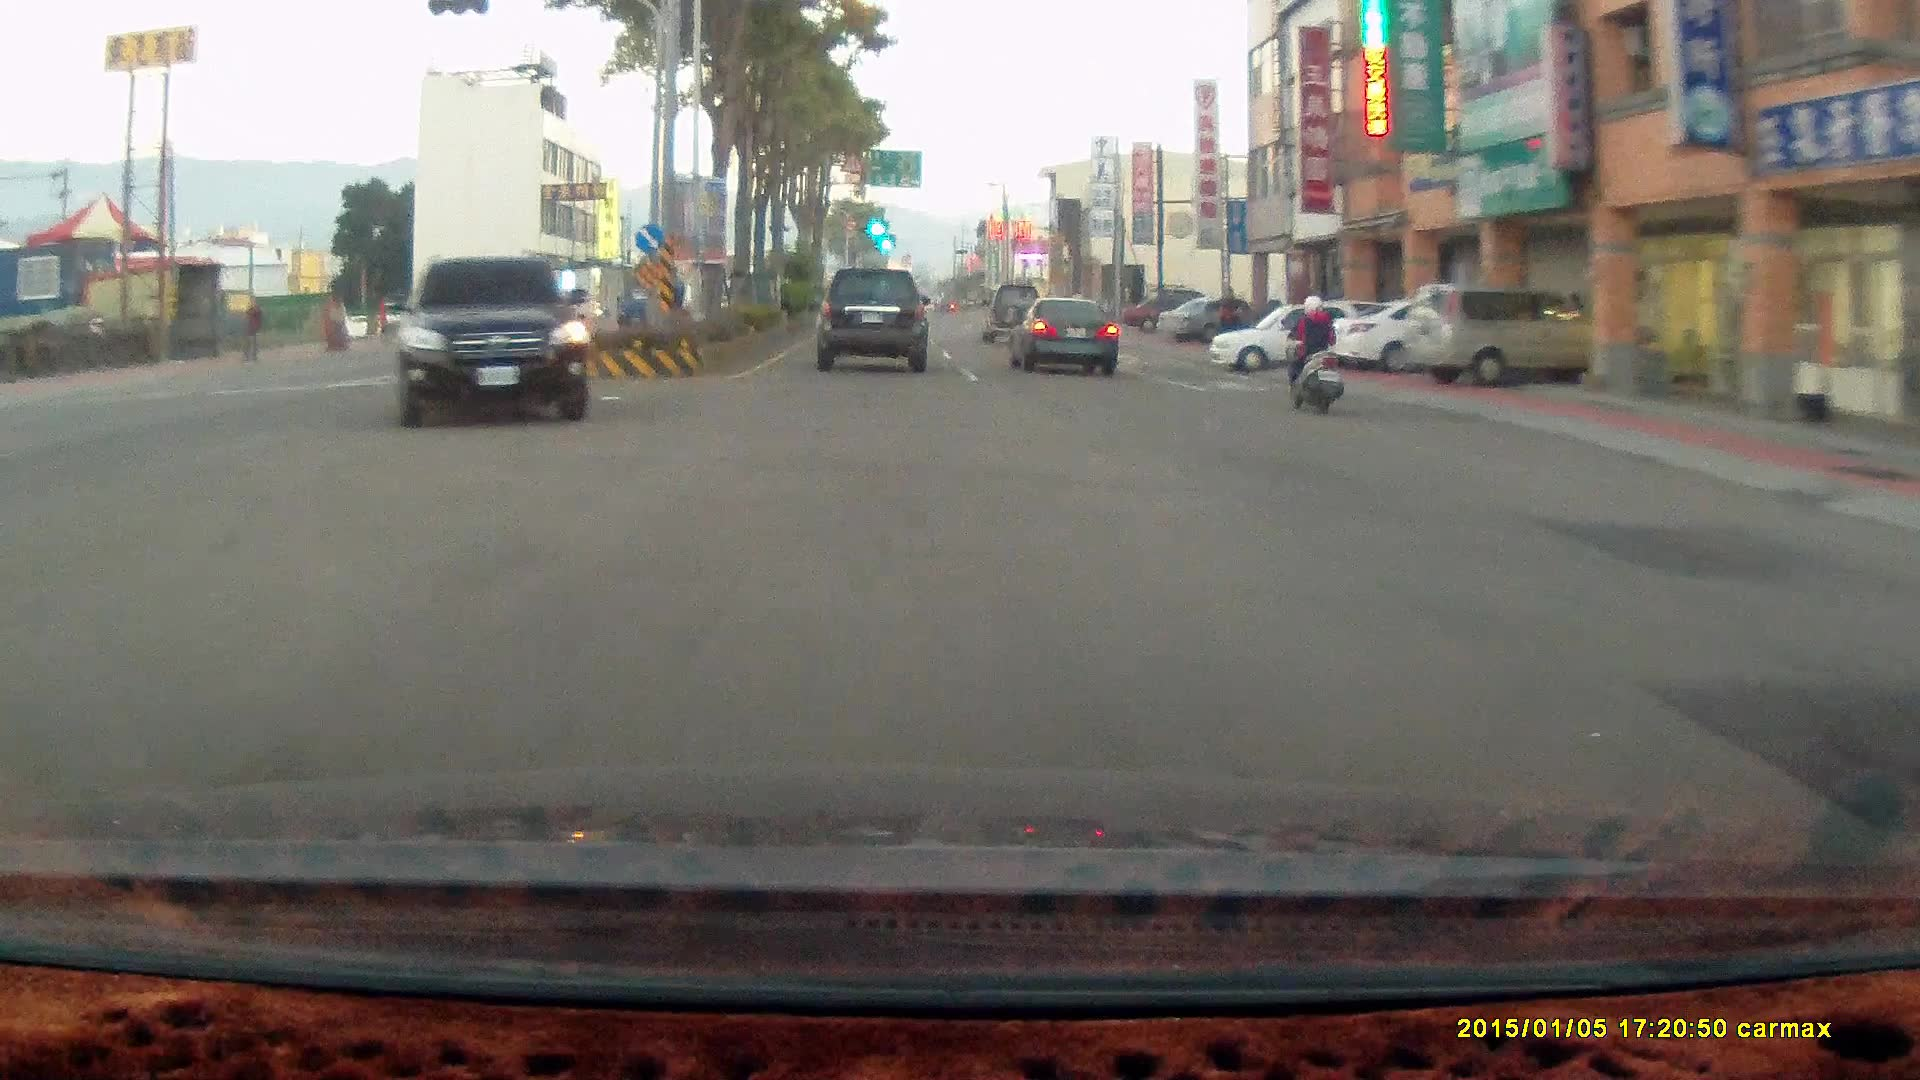pedestrian: (1216, 285, 1244, 348), (239, 292, 263, 361)
rider: (1272, 285, 1357, 421), (1281, 293, 1344, 414)
vehicle: (385, 254, 589, 426), (395, 256, 593, 429), (1399, 279, 1624, 384), (1418, 283, 1604, 391), (1330, 296, 1520, 378), (1331, 293, 1522, 374), (1209, 298, 1386, 373), (1210, 303, 1388, 377), (822, 269, 936, 376), (815, 267, 929, 373), (1008, 298, 1128, 377), (1005, 297, 1117, 378), (1157, 295, 1260, 340), (978, 279, 1046, 337), (1122, 290, 1215, 331)
